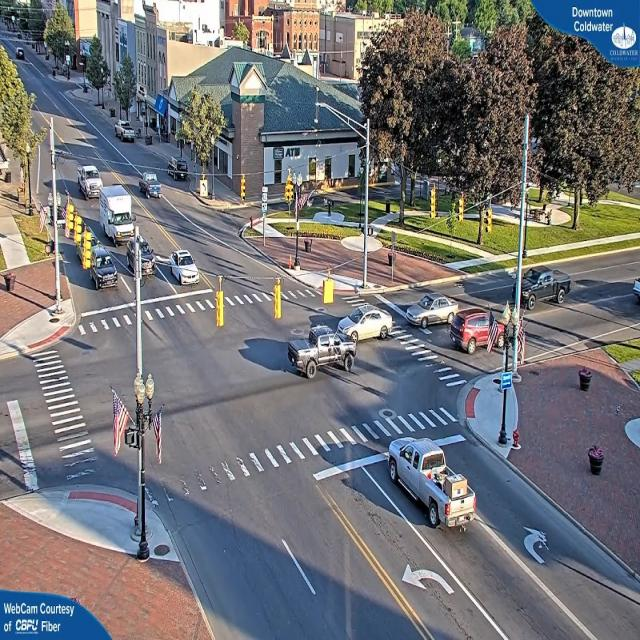car: (386, 438, 474, 538), (285, 324, 355, 376), (448, 307, 506, 354), (513, 267, 570, 310), (345, 304, 391, 342), (407, 292, 456, 326), (124, 234, 155, 282), (166, 250, 200, 287), (90, 247, 117, 293), (77, 165, 101, 199), (141, 173, 163, 200), (117, 123, 135, 142)
truck: (103, 187, 138, 245)
